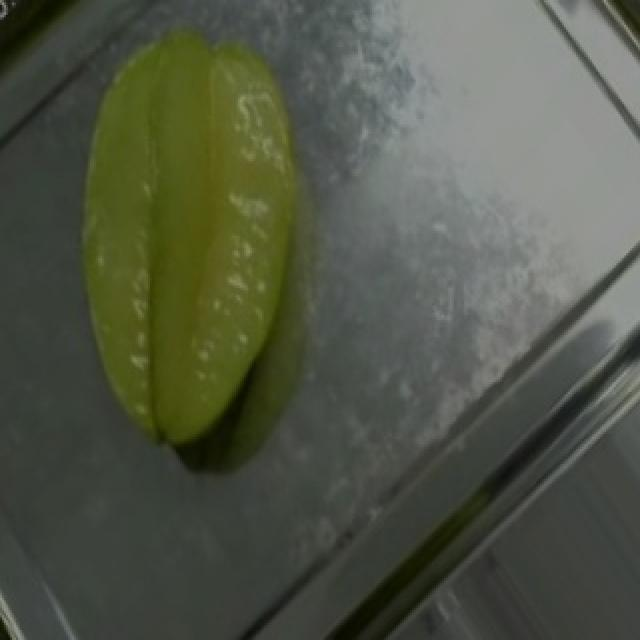fruit: (12, 0, 400, 476)
